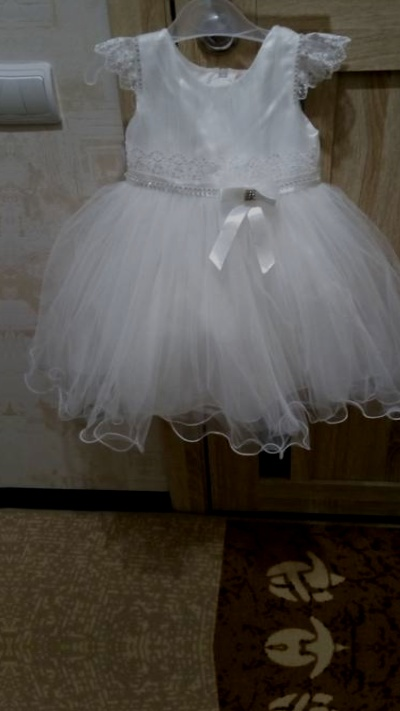Dress: (24, 2, 400, 464)
